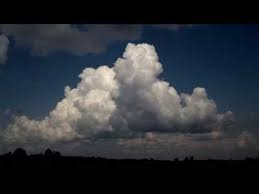Cumulus: (25, 38, 231, 145)
